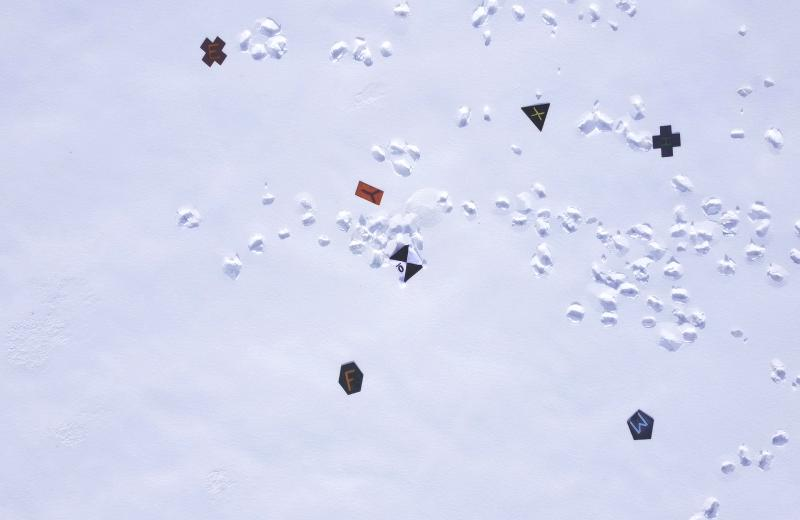Cross: (646, 122, 684, 162), (194, 34, 232, 73)
Hexagon: (334, 361, 366, 400)
Pentagon: (621, 407, 656, 444)
Rectangle: (349, 178, 386, 209)
Triangle: (519, 98, 553, 138)
